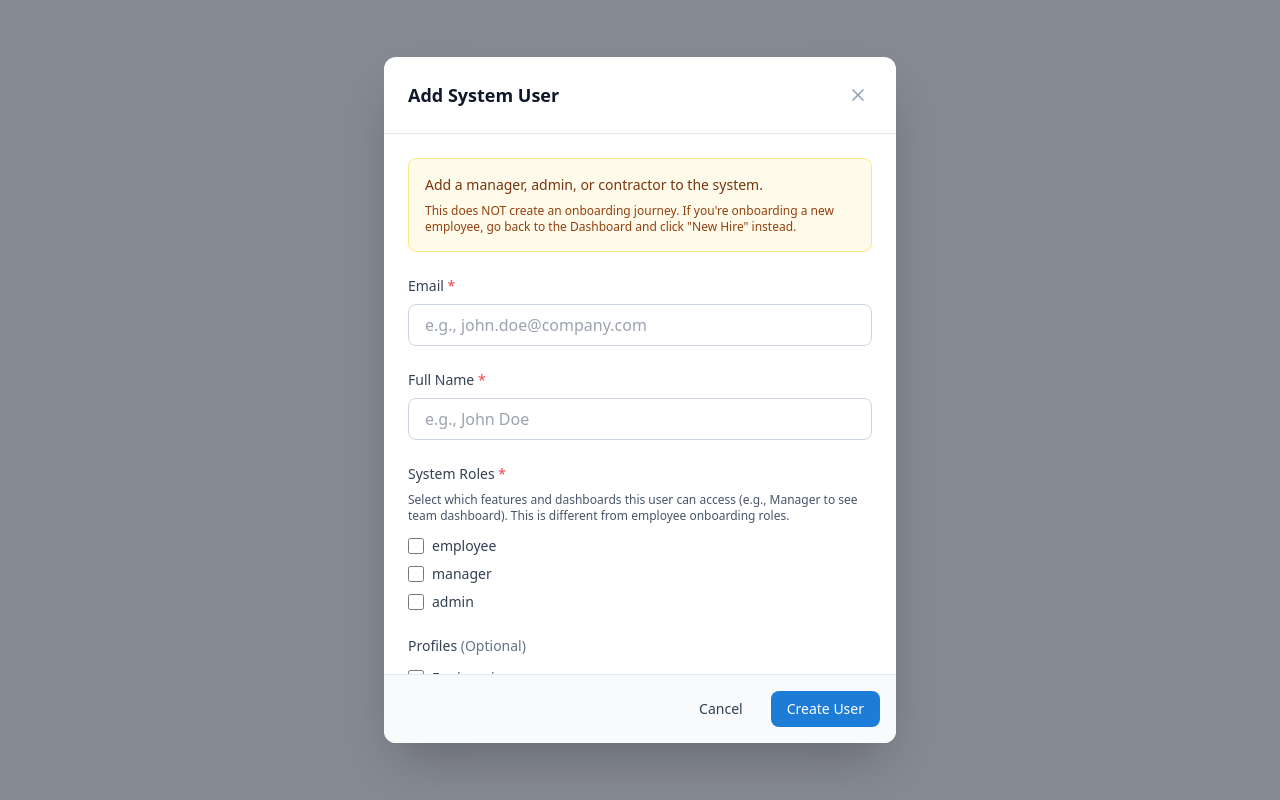
Test: UserModal › UserModal - create mode › should validate email format
The image size is (1280, 800).
In the field named "User email": x=640, y=325 408,304 -> 872,346, type "invalid-email"
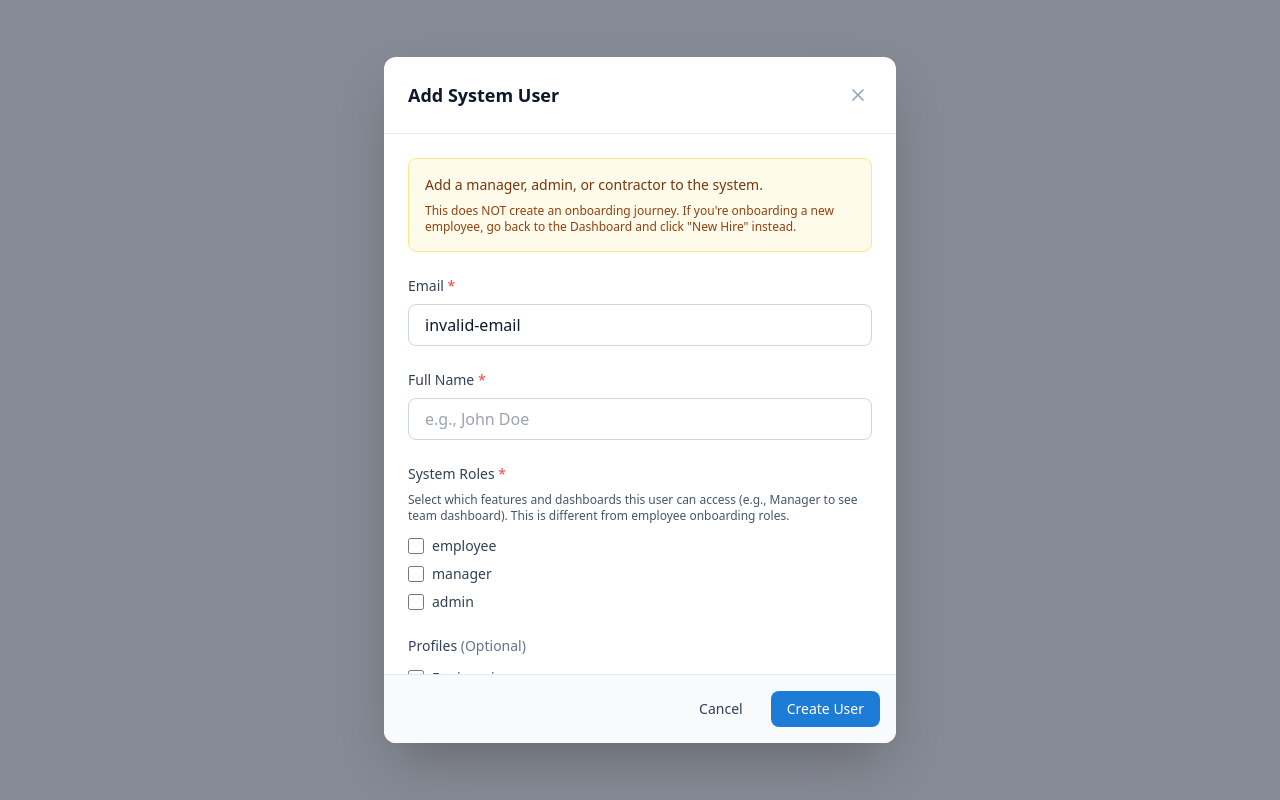
Click the button labelled "Create User": x=825, y=709 771,691 -> 880,727
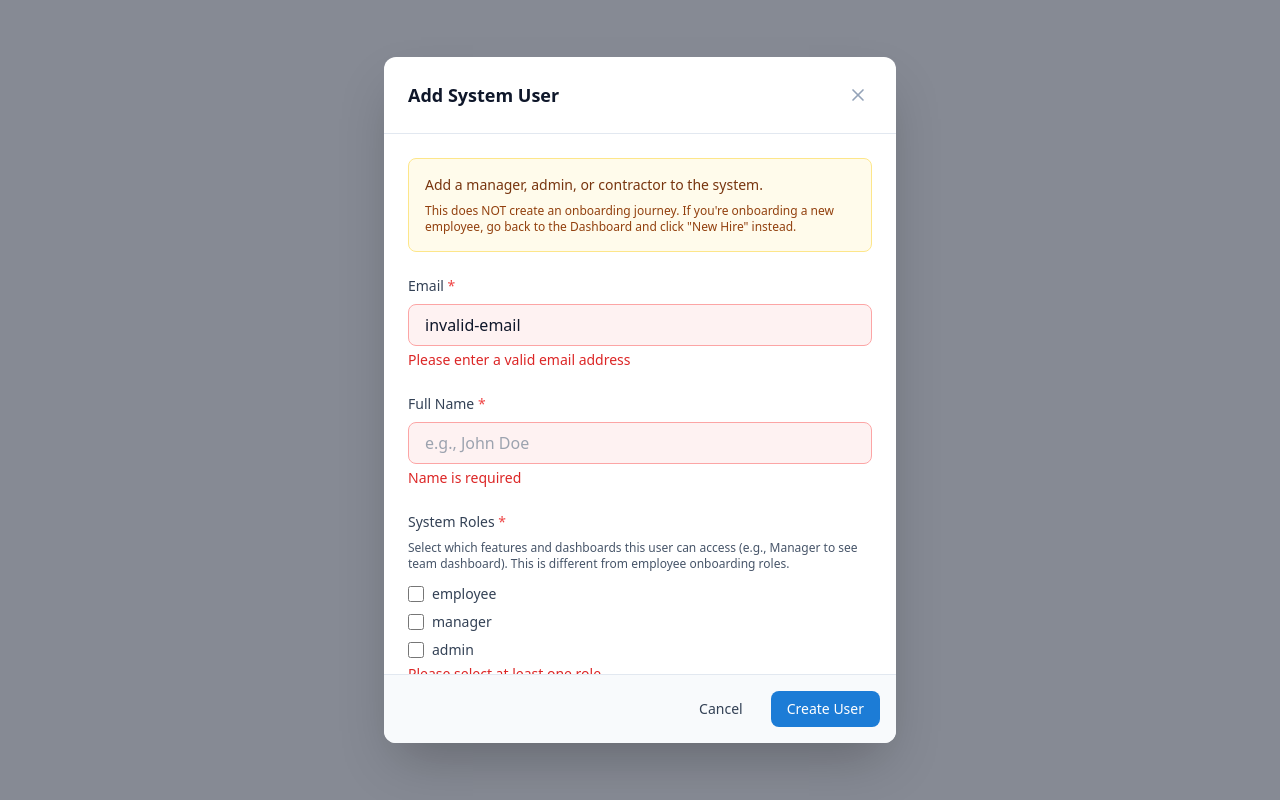
Expected: the text "Please enter a valid email address" is shown, 408,350 -> 630,369
